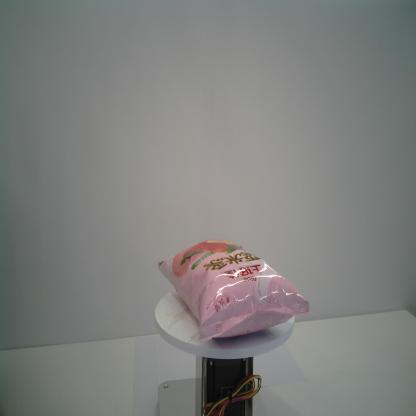Puffed Food: (158, 238, 310, 343)
